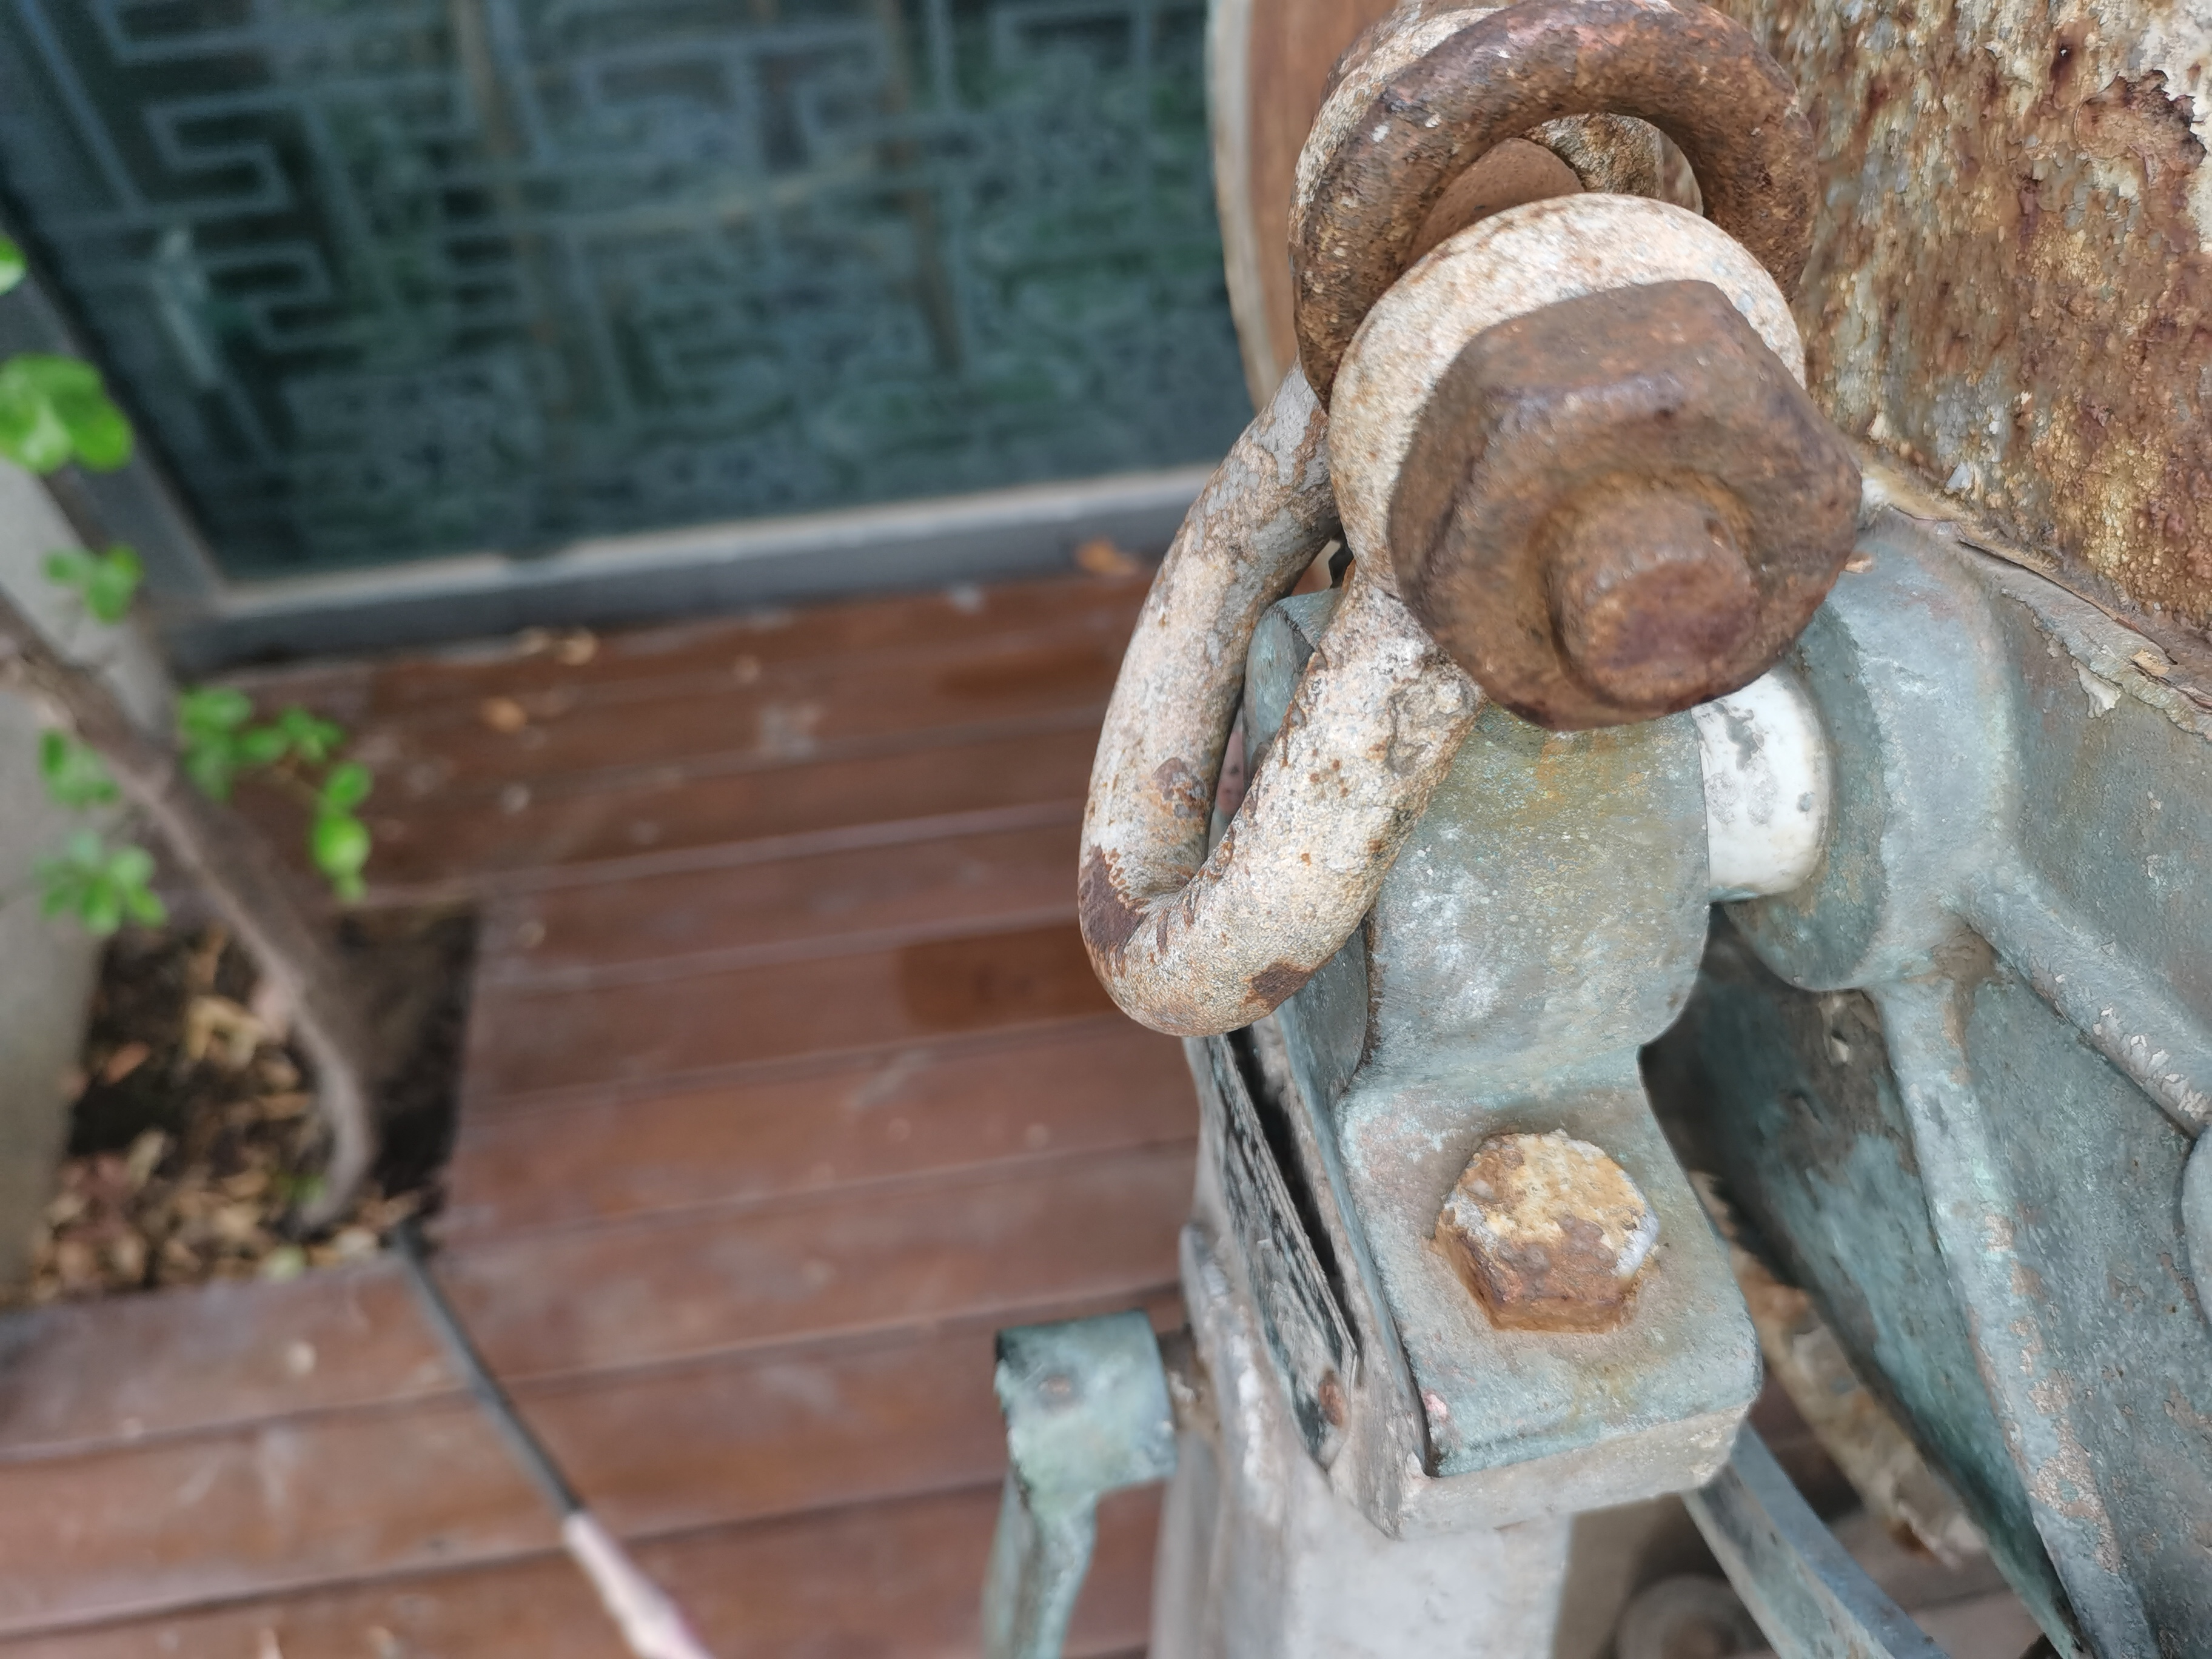bolt_a: (1421, 1119, 1674, 1340)
bolt_b: (1379, 270, 1869, 744)
